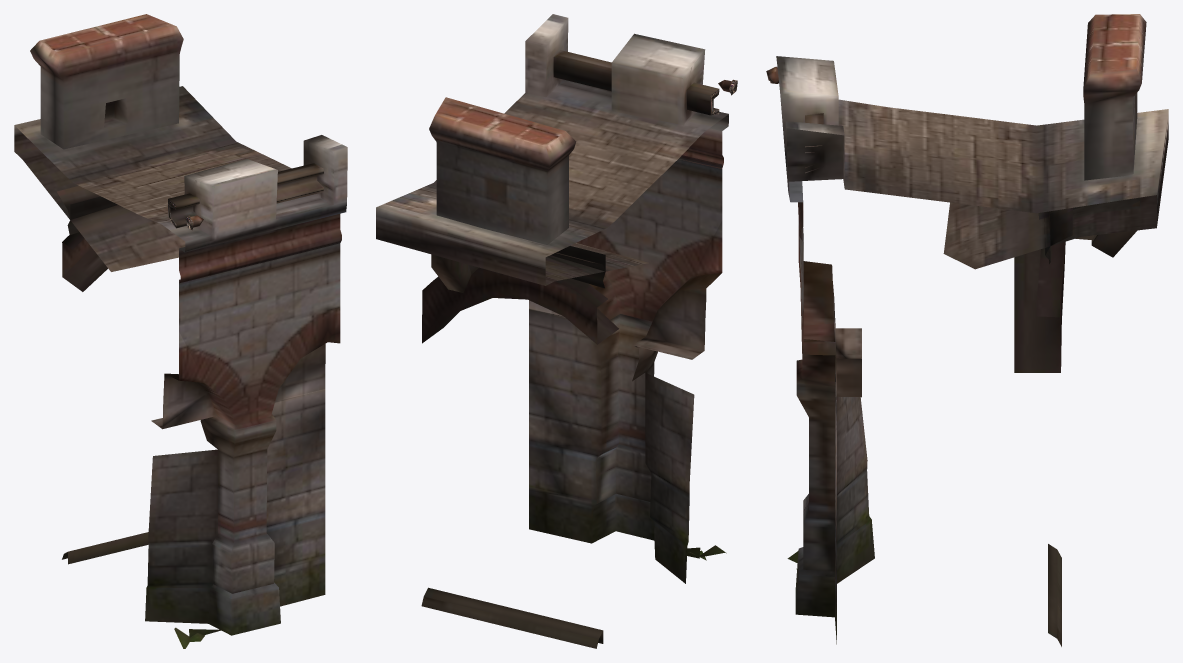
Rendered from WallRunRight_12.fbx.
3 views of the same model, side by side, from view 1: azimuth 30°, elevation 25°; view 2: azimuth 150°, elevation 25°; view 3: azimuth 270°, elevation 25° (orthographic). The views are drawn at different scales.
Visible parts, largest first — view 1: Imported wall section.073; view 2: Imported wall section.073; view 3: Imported wall section.073.
Part boxes in pixels (x1,y1,x2,y2): Imported wall section.073: (14, 14, 347, 648); Imported wall section.073: (376, 14, 737, 648); Imported wall section.073: (766, 14, 1168, 646).
Bounding box in the file's own units: 200 × 579 × 380.
1 material, 1 textured.
